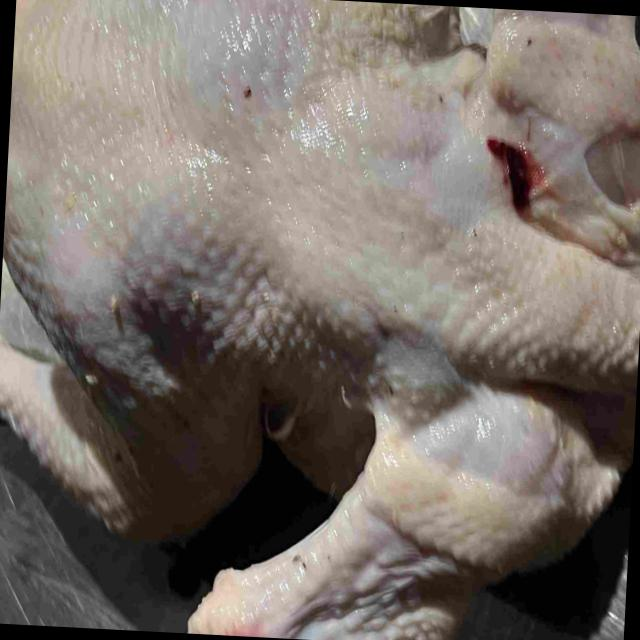back: (3, 0, 488, 393)
leg: (0, 330, 258, 534)
neck: (489, 229, 640, 407)
wing: (190, 381, 636, 640), (467, 9, 640, 225)
